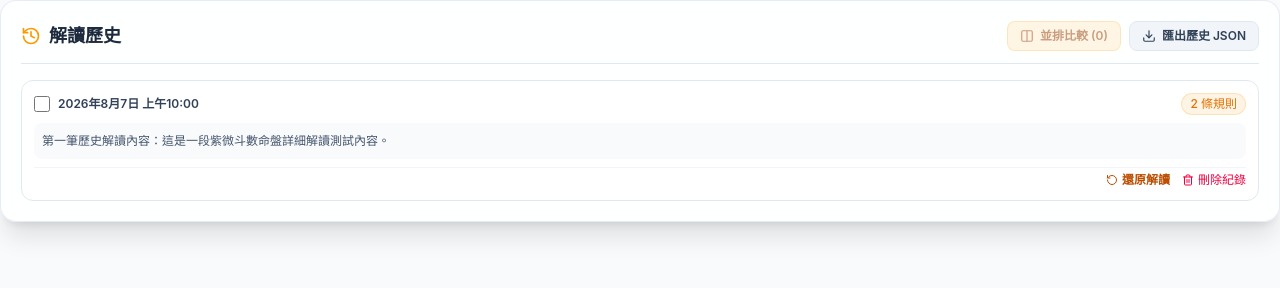
it: HistoryPanel › exports reading history as JSON file
What coordinates should you click on to do the following:
click the button "匯出歷史 JSON"
I would click on:
 (1194, 36)
Its box is [1129,21,1259,51].
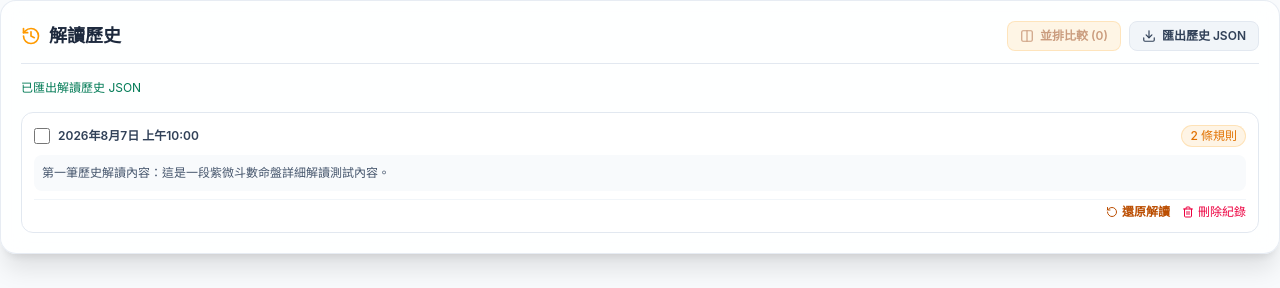
Result: the text "已匯出解讀歷史 JSON" is shown at [21,80,141,95]
